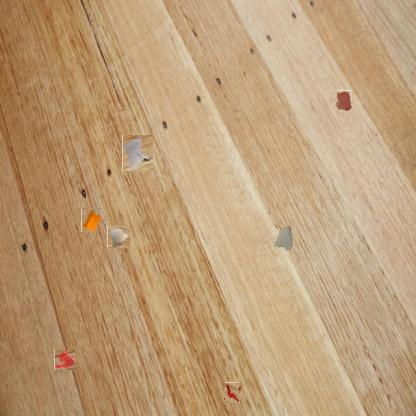dirty: (121, 137, 155, 170), (107, 225, 130, 248), (81, 208, 102, 232), (274, 226, 294, 250), (224, 384, 241, 402)
liquid: (54, 350, 75, 371), (334, 90, 352, 111)
